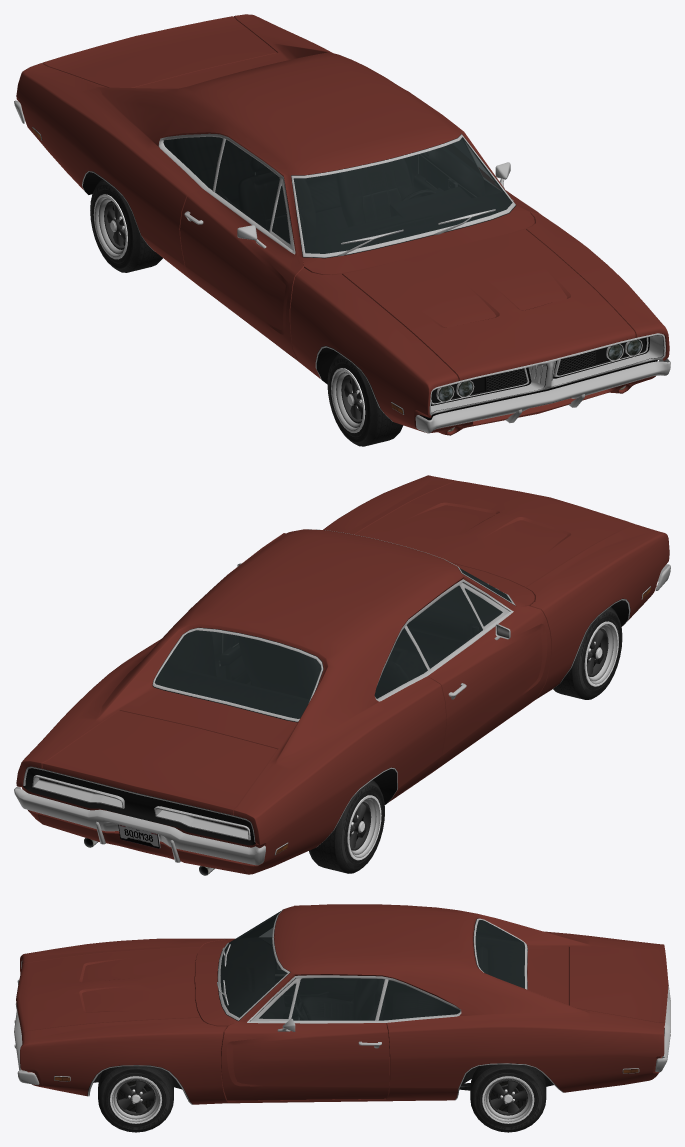
The model's file is muscle-car.gltf.
3 views of the same model, one above another, from view 1: azimuth 30°, elevation 25°; view 2: azimuth 150°, elevation 25°; view 3: azimuth 270°, elevation 25° (orthographic). The views are drawn at different scales.
Visible parts, largest first — view 1: Duke_69_Body, Duke_69_Hood, Duke_69_Interior_GEN4DR_INTERIOR_0, Duke_69_Windshield, Duke_69_Bottom, Duke_69_Trunkdoor, Duke_69_Bodyglass, Duke_69_Bumper_Front_UCB_BOTTOM_LT_0, Duke_69_Wheel_FR_RB1c_Tire_0, Duke_69_Wheel_RR_RB1c_Tire_0, Duke_69_Headlights; view 2: Duke_69_Body, Duke_69_Hood, Duke_69_Interior_GEN4DR_INTERIOR_0, Duke_69_Trunkdoor, Duke_69_Bottom, Duke_69_Rear_Glass, Duke_69_Bodyglass, Duke_69_Bumper_Rear_UCB_BOTTOM_LT_0, Duke_69_Wheel_RR_RB1c_Tire_0, Duke_69_Wheel_FR_RB1c_Tire_0, Duke_69_Numberplate_rear_Numberplates_Generic_USA_0; view 3: Duke_69_Body, Duke_69_Hood, Duke_69_Interior_GEN4DR_INTERIOR_0, Duke_69_Trunkdoor, Duke_69_Bodyglass, Duke_69_Wheel_RL_RB1c_Tire_0, Duke_69_Bottom, Duke_69_Wheel_FL_RB1c_Tire_0, Duke_69_Windshield, Duke_69_Rear_Glass, Duke_69_Bumper_Front_UCB_BOTTOM_LT_0, Duke_69_Bumper_Rear_UCB_BOTTOM_LT_0.
Boxes of the visible parts, x1,y1,x2,y2 form: Duke_69_Body: (16, 14, 669, 435); Duke_69_Hood: (342, 229, 635, 380); Duke_69_Interior_GEN4DR_INTERIOR_0: (164, 137, 511, 253); Duke_69_Windshield: (293, 137, 512, 253); Duke_69_Bottom: (32, 126, 665, 431); Duke_69_Trunkdoor: (42, 16, 277, 87); Duke_69_Bodyglass: (163, 136, 290, 244); Duke_69_Bumper_Front_UCB_BOTTOM_LT_0: (415, 358, 670, 433); Duke_69_Wheel_FR_RB1c_Tire_0: (327, 353, 403, 446); Duke_69_Wheel_RR_RB1c_Tire_0: (90, 179, 162, 272); Duke_69_Headlights: (438, 340, 641, 401); Duke_69_Body: (16, 475, 669, 874); Duke_69_Hood: (355, 481, 634, 587); Duke_69_Interior_GEN4DR_INTERIOR_0: (155, 585, 510, 718); Duke_69_Trunkdoor: (42, 710, 277, 815); Duke_69_Bottom: (23, 529, 650, 875); Duke_69_Rear_Glass: (154, 630, 321, 718); Duke_69_Bodyglass: (374, 585, 502, 698); Duke_69_Bumper_Rear_UCB_BOTTOM_LT_0: (14, 786, 265, 865); Duke_69_Wheel_RR_RB1c_Tire_0: (309, 780, 384, 873); Duke_69_Wheel_FR_RB1c_Tire_0: (553, 607, 622, 699); Duke_69_Numberplate_rear_Numberplates_Generic_USA_0: (118, 824, 160, 848); Duke_69_Body: (20, 904, 664, 1104); Duke_69_Hood: (16, 947, 200, 1034); Duke_69_Interior_GEN4DR_INTERIOR_0: (221, 916, 524, 1019); Duke_69_Trunkdoor: (569, 946, 668, 1022); Duke_69_Bodyglass: (259, 978, 459, 1020); Duke_69_Wheel_RL_RB1c_Tire_0: (470, 1064, 546, 1132); Duke_69_Bottom: (15, 909, 639, 1104); Duke_69_Wheel_FL_RB1c_Tire_0: (98, 1066, 173, 1132); Duke_69_Windshield: (220, 911, 287, 1017); Duke_69_Rear_Glass: (475, 920, 524, 988); Duke_69_Bumper_Front_UCB_BOTTOM_LT_0: (14, 980, 39, 1084); Duke_69_Bumper_Rear_UCB_BOTTOM_LT_0: (655, 983, 670, 1072).
Bounding box in the file's own units: 1.96 × 1.37 × 5.24.
Materials: 7 (6 with a texture image).
